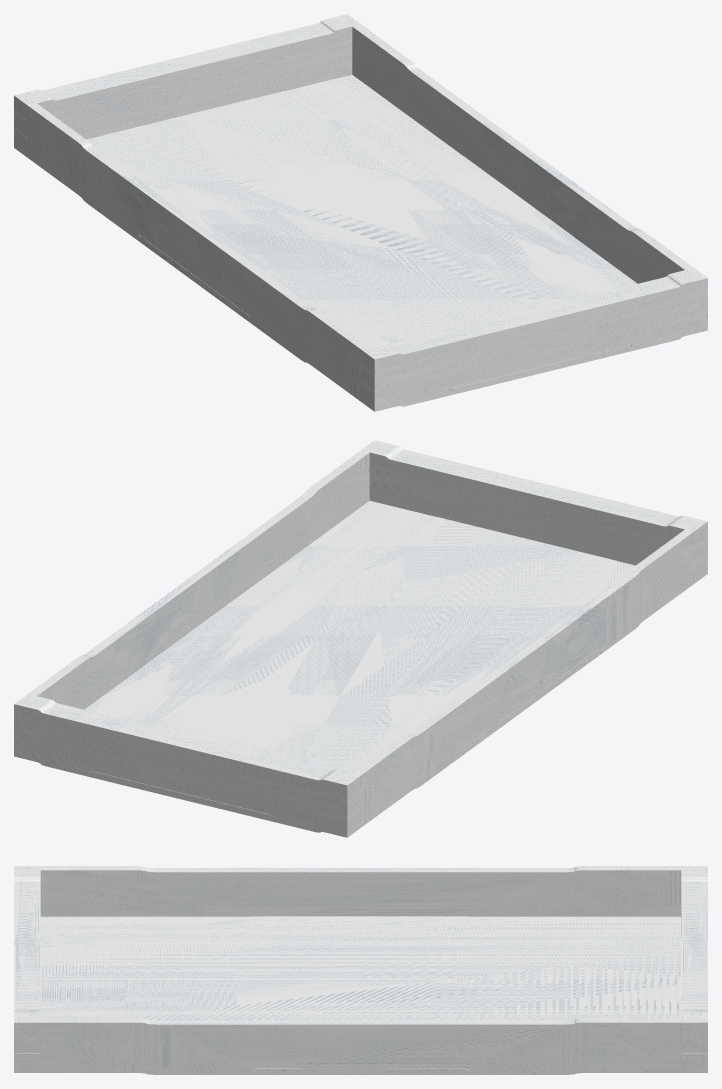
Rendered from env_box.dae.
The picture shows the model from 3 angles, top to bottom: view 1: azimuth 30°, elevation 25°; view 2: azimuth 150°, elevation 25°; view 3: azimuth 270°, elevation 25°; orthographic projection. The views are drawn at different scales.
Visible parts, largest first — view 1: SketchUp.001; view 2: SketchUp.001; view 3: SketchUp.001.
Boxes of the visible parts, <box> form: SketchUp.001: <box>14,14,707,411</box>; SketchUp.001: <box>14,440,707,837</box>; SketchUp.001: <box>14,866,707,1074</box>.
Bounding box in the file's own units: 0.8325 × 1.56 × 0.13.
